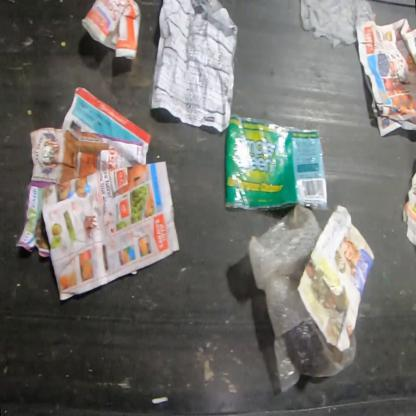rigid_plastic: (82, 0, 141, 61)
soft_plastic: (247, 205, 357, 393), (224, 112, 333, 213)
